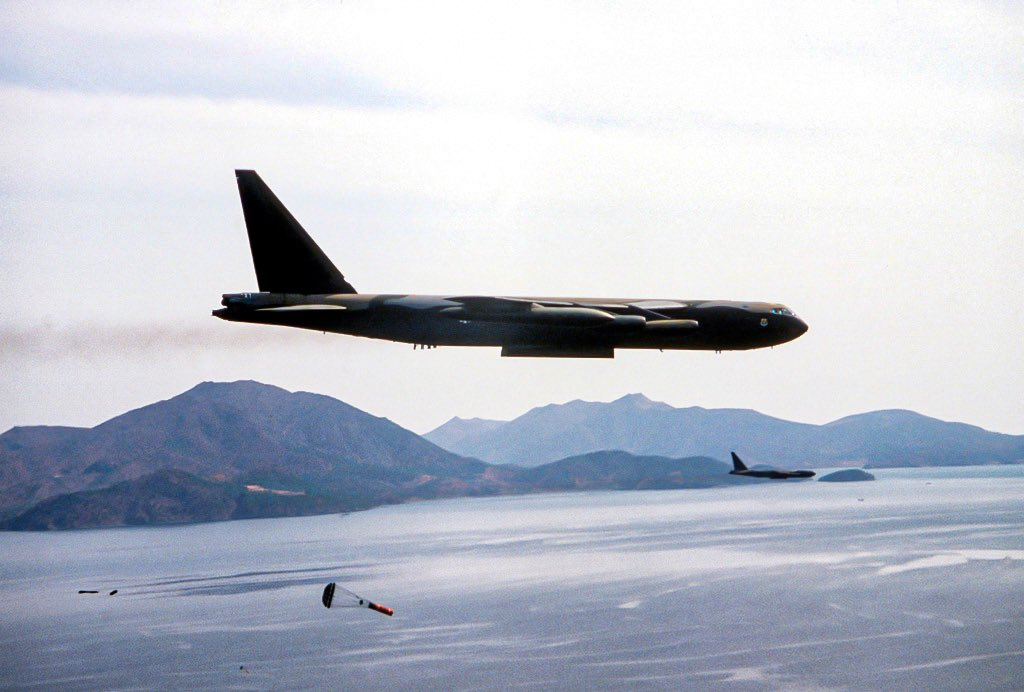B52: (209, 169, 809, 359), (727, 451, 817, 480)
